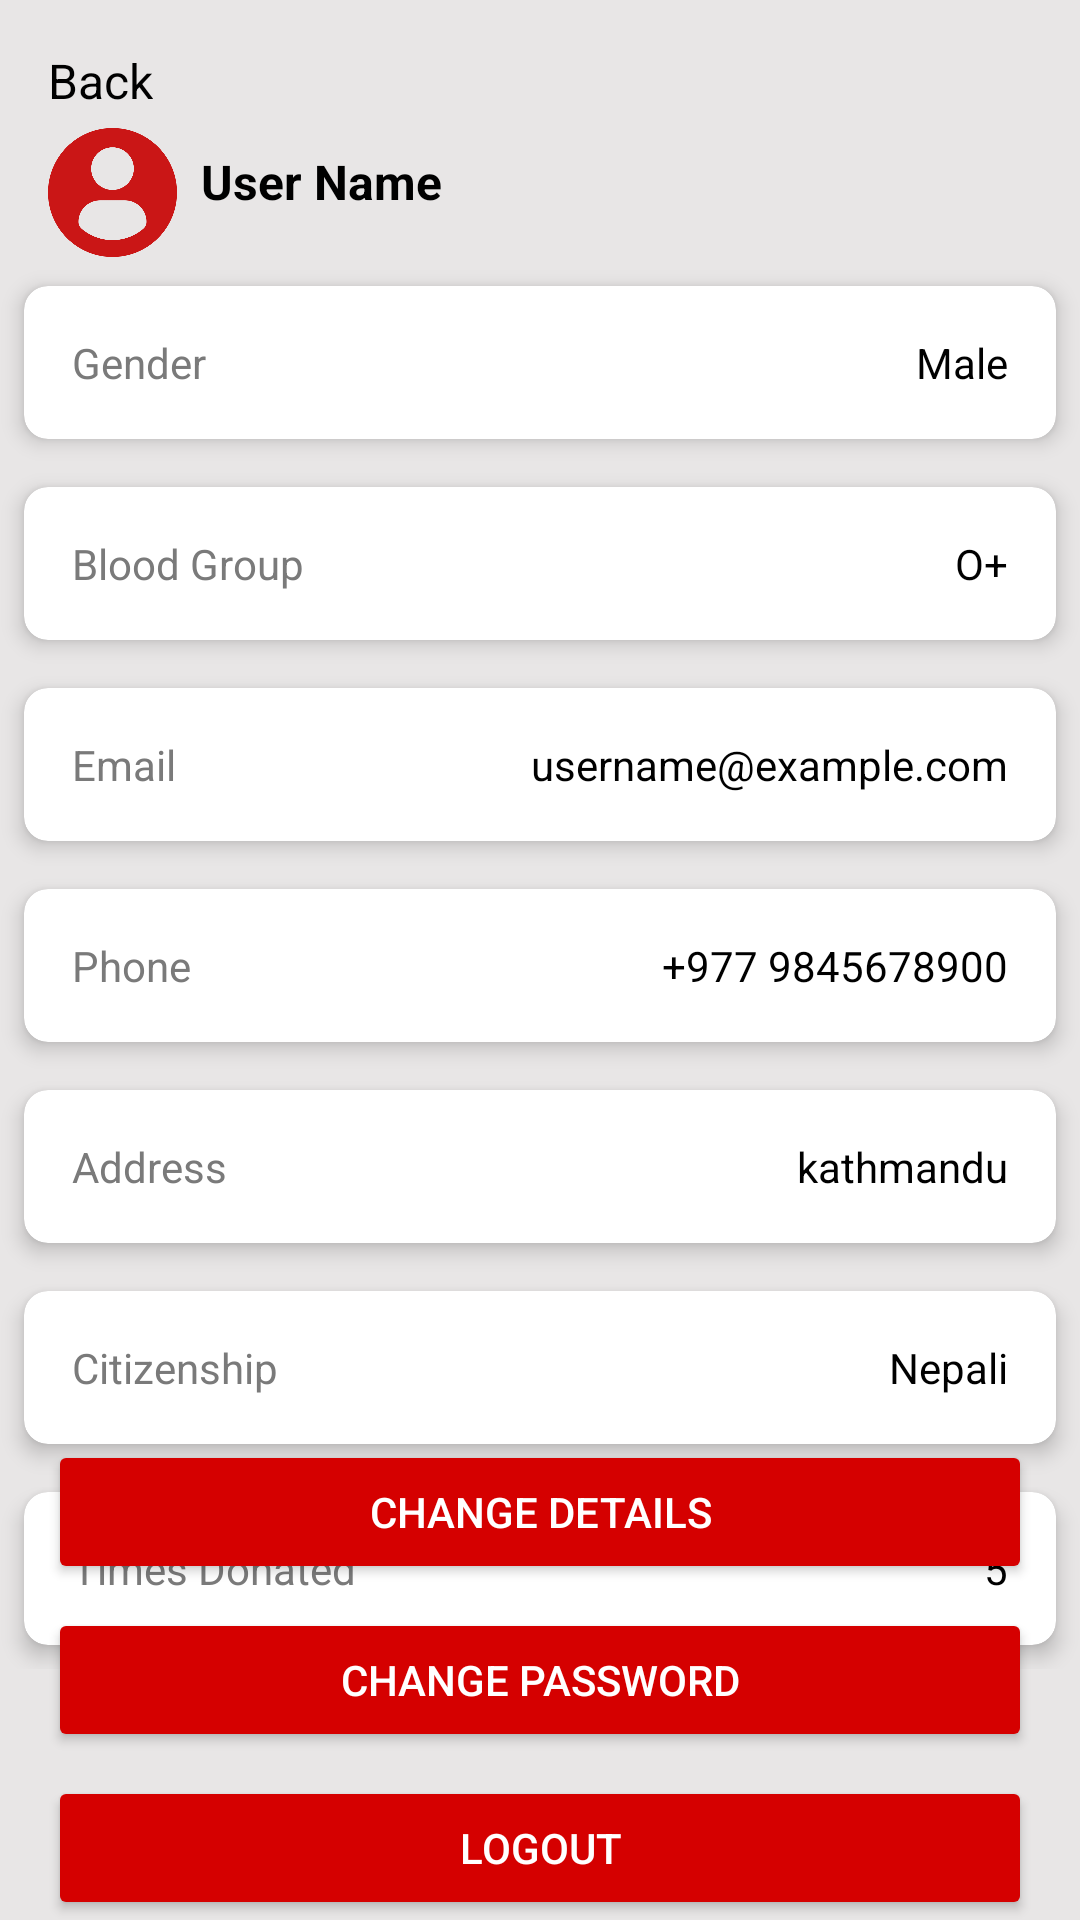

Screen size 1080*1920. Icon name, then its box in pixels as (x1, y1, x2, y2):
profile: (48, 128, 177, 257)
